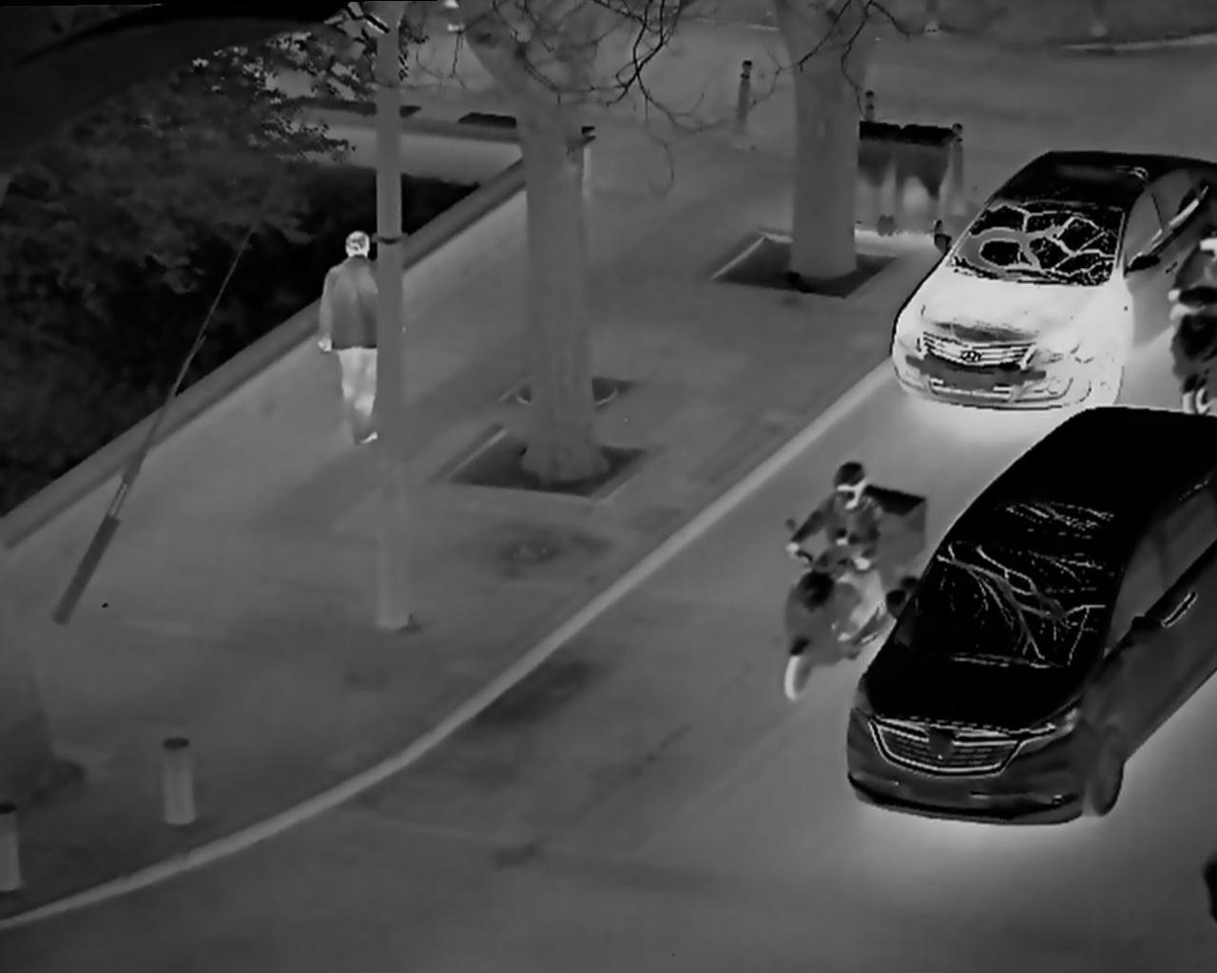person: (783, 451, 918, 677), (303, 219, 400, 447)
